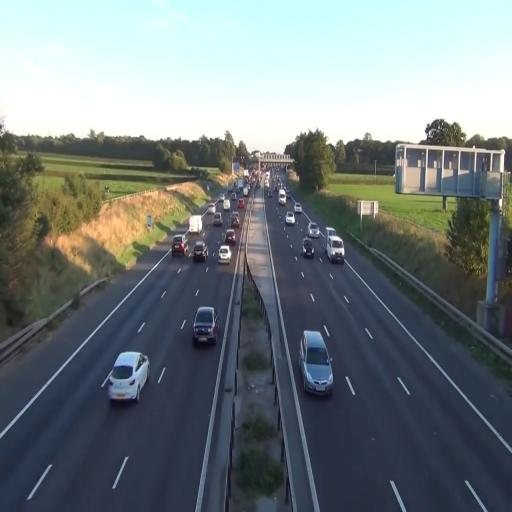vehicle: (300, 328, 334, 397), (107, 350, 150, 402), (192, 306, 218, 346), (327, 236, 345, 265), (192, 238, 208, 262), (224, 227, 238, 247), (218, 244, 231, 262), (285, 212, 296, 226)
